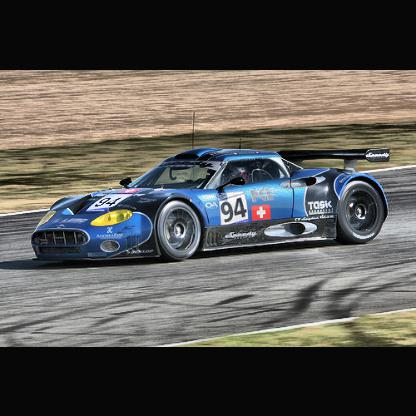Spyker C8 Convertible 2009: (29, 145, 395, 269)
